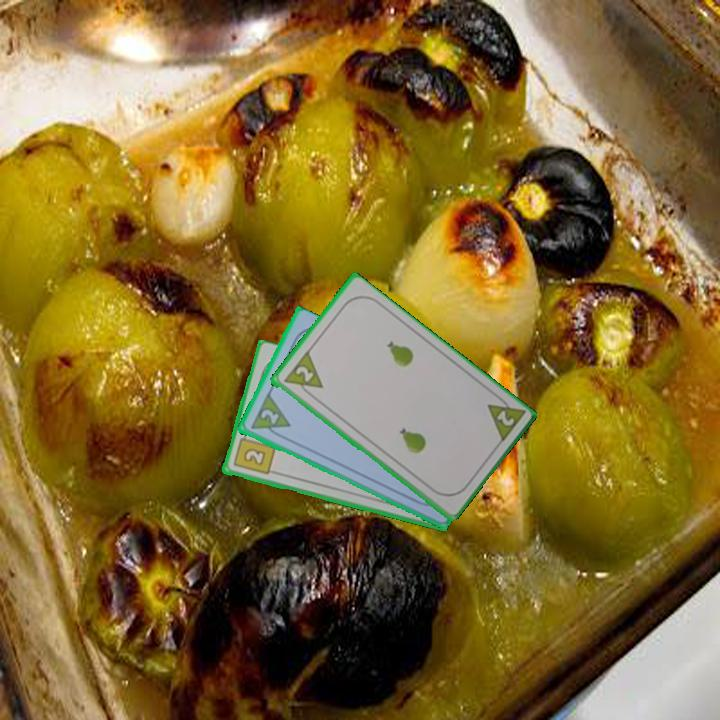2b: (229, 429, 277, 478)
2p: (483, 390, 527, 447), (246, 391, 293, 442), (280, 349, 325, 401)
